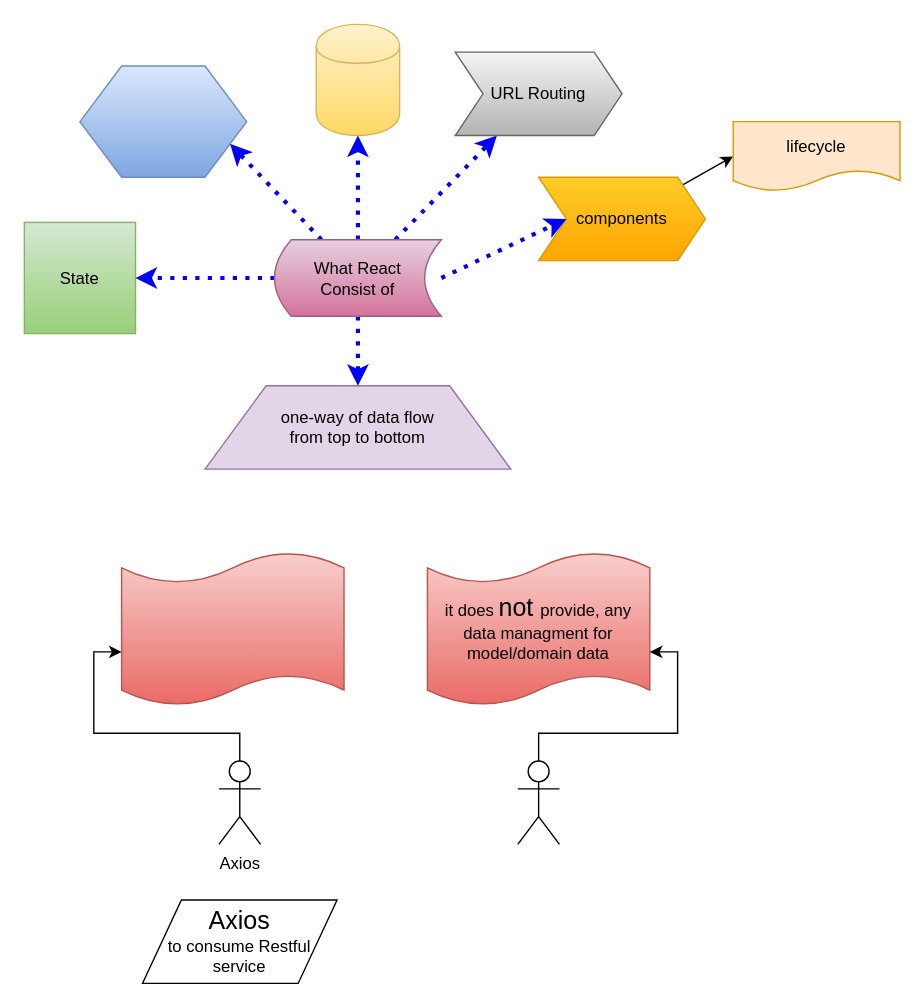
Image size: 924x1008. Some labels were removed from this diagram. The shapes that lost their labels are listed below. From the top down, each one's centre as x and y in pixels, then its label:
At pixel 357 79: "props".
At pixel 163 121: "events".
At pixel 232 628: "it does not provide, any built in API to work with Web Service for data".
At pixel 537 802: "Redux".
